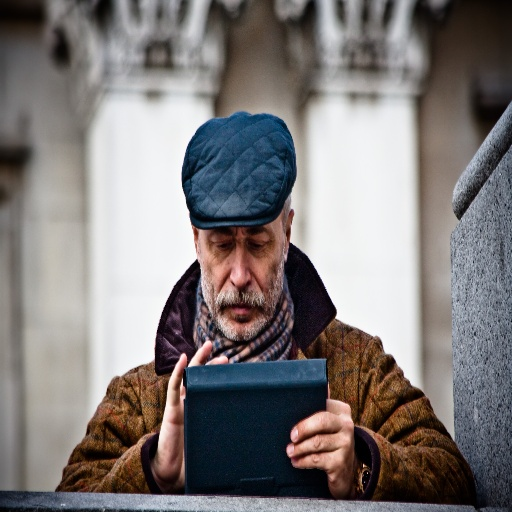hand: (154, 338, 229, 492), (286, 378, 358, 502)
